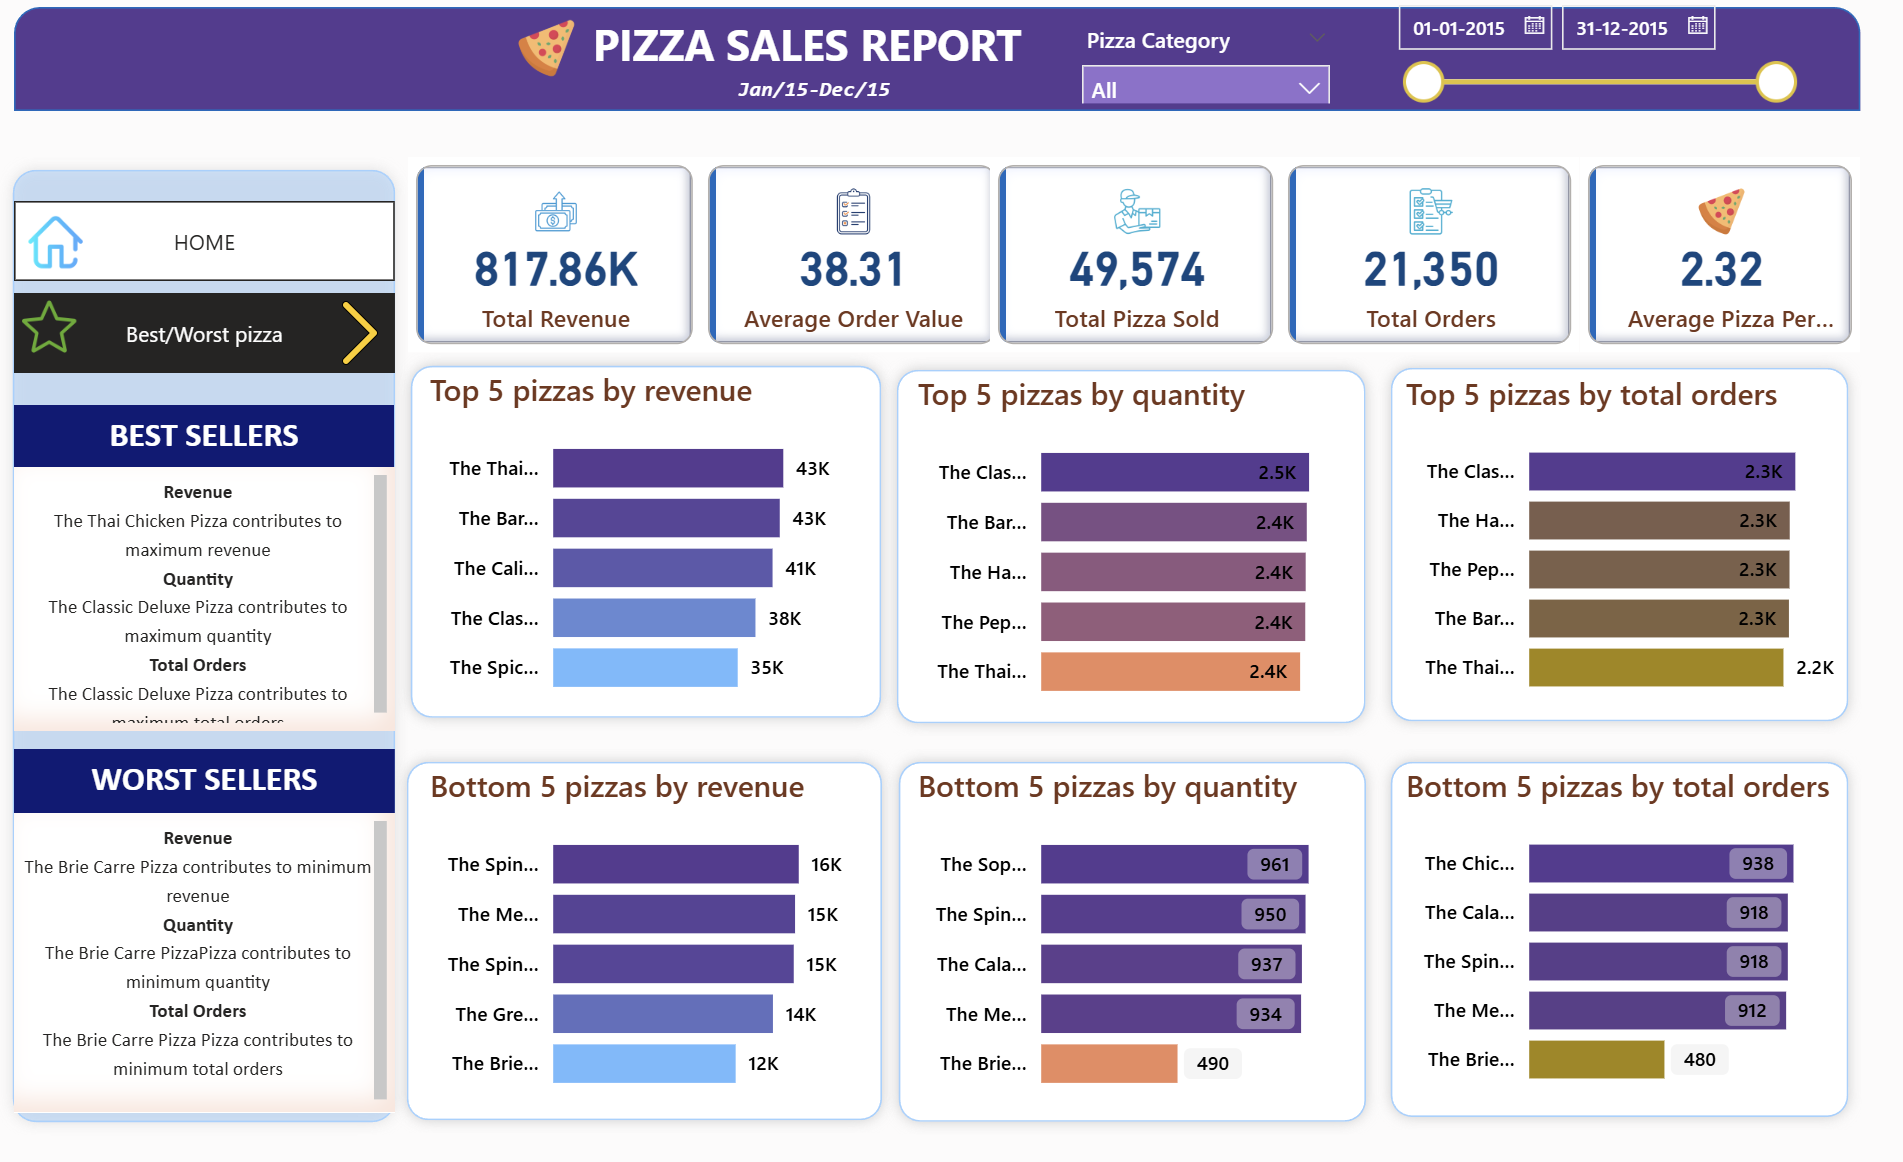

Layout of this report page (visuals, bound fields, positions):
{"tool":"powerbi","page":{"name":"Best/Worst pizza","canvas":[1500,820],"ordinal":1},"visuals":[{"type":"cardVisual","fields":{"Data":["Pizza_Measures.Total Revenue"]},"box":[367,105,183,122],"z":0},{"type":"cardVisual","fields":{"Data":["Pizza_Measures.Average Order Value"]},"box":[550,105,190,122],"z":1000},{"type":"cardVisual","fields":{"Data":["Pizza_Measures.Total Pizza Sold"]},"box":[731,105,182,122],"z":2000},{"type":"cardVisual","fields":{"Data":["Pizza_Measures.Total Orders"]},"box":[913,105,187,122],"z":3000},{"type":"cardVisual","fields":{"Data":["Pizza_Measures.Average Pizza Per Order"]},"box":[1100,105,175,122],"z":4000},{"type":"shape","box":[121,11,1154,65],"z":5000},{"type":"textbox","box":[411.2,11.2,411.2,48.8],"z":6000},{"type":"textbox","box":[528.8,47.5,185,28.8],"z":7000},{"type":"image","box":[421.2,13.8,65,46.2],"z":8000},{"type":"shape","box":[361,227,310,236],"z":9000},{"type":"shape","box":[665,230,309,237],"z":10000},{"type":"shape","box":[359,475,313,240],"z":11000},{"type":"shape","box":[666,475,308,241],"z":12000},{"type":"shape","box":[974,475,302,238],"z":13000},{"type":"shape","box":[112.5,105,255,611.2],"z":14000},{"type":"textbox","box":[121.2,260,237.5,38.8],"z":15000},{"type":"textbox","box":[121,299,238,165],"z":16000},{"type":"textbox","box":[121,475,238,41],"z":17000},{"type":"textbox","box":[121,515,238,187],"z":18000},{"type":"slicer","fields":{"Values":["pizza_sales.pizza category"]},"box":[778.8,17.5,175,53.8],"z":19000},{"type":"slicer","fields":{"Values":["pizza_sales.order date"]},"box":[974,0,270,73],"z":20000},{"type":"shape","box":[974,229,302,237],"z":21000},{"type":"barChart","title":"Top 5 pizzas by revenue","fields":{"Category":["pizza_sales.pizza name"],"Y":["Pizza_Measures.Total Revenue"]},"box":[376,237,278,217],"z":22000},{"type":"barChart","title":"Bottom 5 pizzas by revenue","fields":{"Category":["pizza_sales.pizza name"],"Y":["Pizza_Measures.Total Revenue"]},"box":[376,485,278,217],"z":23000},{"type":"barChart","title":"Top 5 pizzas by quantity","fields":{"Category":["pizza_sales.pizza name"],"Y":["Pizza_Measures.Total Pizza Sold"]},"box":[681,240,278,217],"z":24000},{"type":"barChart","title":"Bottom 5 pizzas by quantity","fields":{"Category":["pizza_sales.pizza name"],"Y":["Pizza_Measures.Total Pizza Sold"]},"box":[681,485,278,217],"z":25000},{"type":"barChart","title":"Top 5 pizzas by total orders","fields":{"Category":["pizza_sales.pizza name"],"Y":["Pizza_Measures.Total Orders"]},"box":[986,240,278,214],"z":26000},{"type":"barChart","title":"Bottom 5 pizzas by total orders","fields":{"Category":["pizza_sales.pizza name"],"Y":["Pizza_Measures.Total Orders"]},"box":[986,485,278,214],"z":27000},{"type":"pageNavigator","box":[121,190,238,50],"z":28000},{"type":"pageNavigator","box":[121,133,238,50],"z":29000},{"type":"image","box":[308,190,60,50],"z":30000},{"type":"image","box":[121,136,52,44],"z":31000},{"type":"image","box":[121,183,44,57],"z":32000}]}

Visuals, with their boxes on the page's 1500x820 design canvas (x1, y1, x2, y2). These are canvas units, not pixel positions in the 1903x1162 screenshot, which may show the page scaled, cropped or inside an application window:
cardVisual - Pizza_Measures.Total Revenue: left=367, top=105, right=550, bottom=227
cardVisual - Pizza_Measures.Average Order Value: left=550, top=105, right=740, bottom=227
cardVisual - Pizza_Measures.Total Pizza Sold: left=731, top=105, right=913, bottom=227
cardVisual - Pizza_Measures.Total Orders: left=913, top=105, right=1100, bottom=227
cardVisual - Pizza_Measures.Average Pizza Per Order: left=1100, top=105, right=1275, bottom=227
shape: left=121, top=11, right=1275, bottom=76
textbox: left=411, top=11, right=822, bottom=60
textbox: left=529, top=48, right=714, bottom=76
image: left=421, top=14, right=486, bottom=60
shape: left=361, top=227, right=671, bottom=463
shape: left=665, top=230, right=974, bottom=467
shape: left=359, top=475, right=672, bottom=715
shape: left=666, top=475, right=974, bottom=716
shape: left=974, top=475, right=1276, bottom=713
shape: left=112, top=105, right=368, bottom=716
textbox: left=121, top=260, right=359, bottom=299
textbox: left=121, top=299, right=359, bottom=464
textbox: left=121, top=475, right=359, bottom=516
textbox: left=121, top=515, right=359, bottom=702
slicer - pizza_sales.pizza category: left=779, top=18, right=954, bottom=71
slicer - pizza_sales.order date: left=974, top=0, right=1244, bottom=73
shape: left=974, top=229, right=1276, bottom=466
"Top 5 pizzas by revenue" barChart: left=376, top=237, right=654, bottom=454
"Bottom 5 pizzas by revenue" barChart: left=376, top=485, right=654, bottom=702
"Top 5 pizzas by quantity" barChart: left=681, top=240, right=959, bottom=457
"Bottom 5 pizzas by quantity" barChart: left=681, top=485, right=959, bottom=702
"Top 5 pizzas by total orders" barChart: left=986, top=240, right=1264, bottom=454
"Bottom 5 pizzas by total orders" barChart: left=986, top=485, right=1264, bottom=699
pageNavigator: left=121, top=190, right=359, bottom=240
pageNavigator: left=121, top=133, right=359, bottom=183
image: left=308, top=190, right=368, bottom=240
image: left=121, top=136, right=173, bottom=180
image: left=121, top=183, right=165, bottom=240
